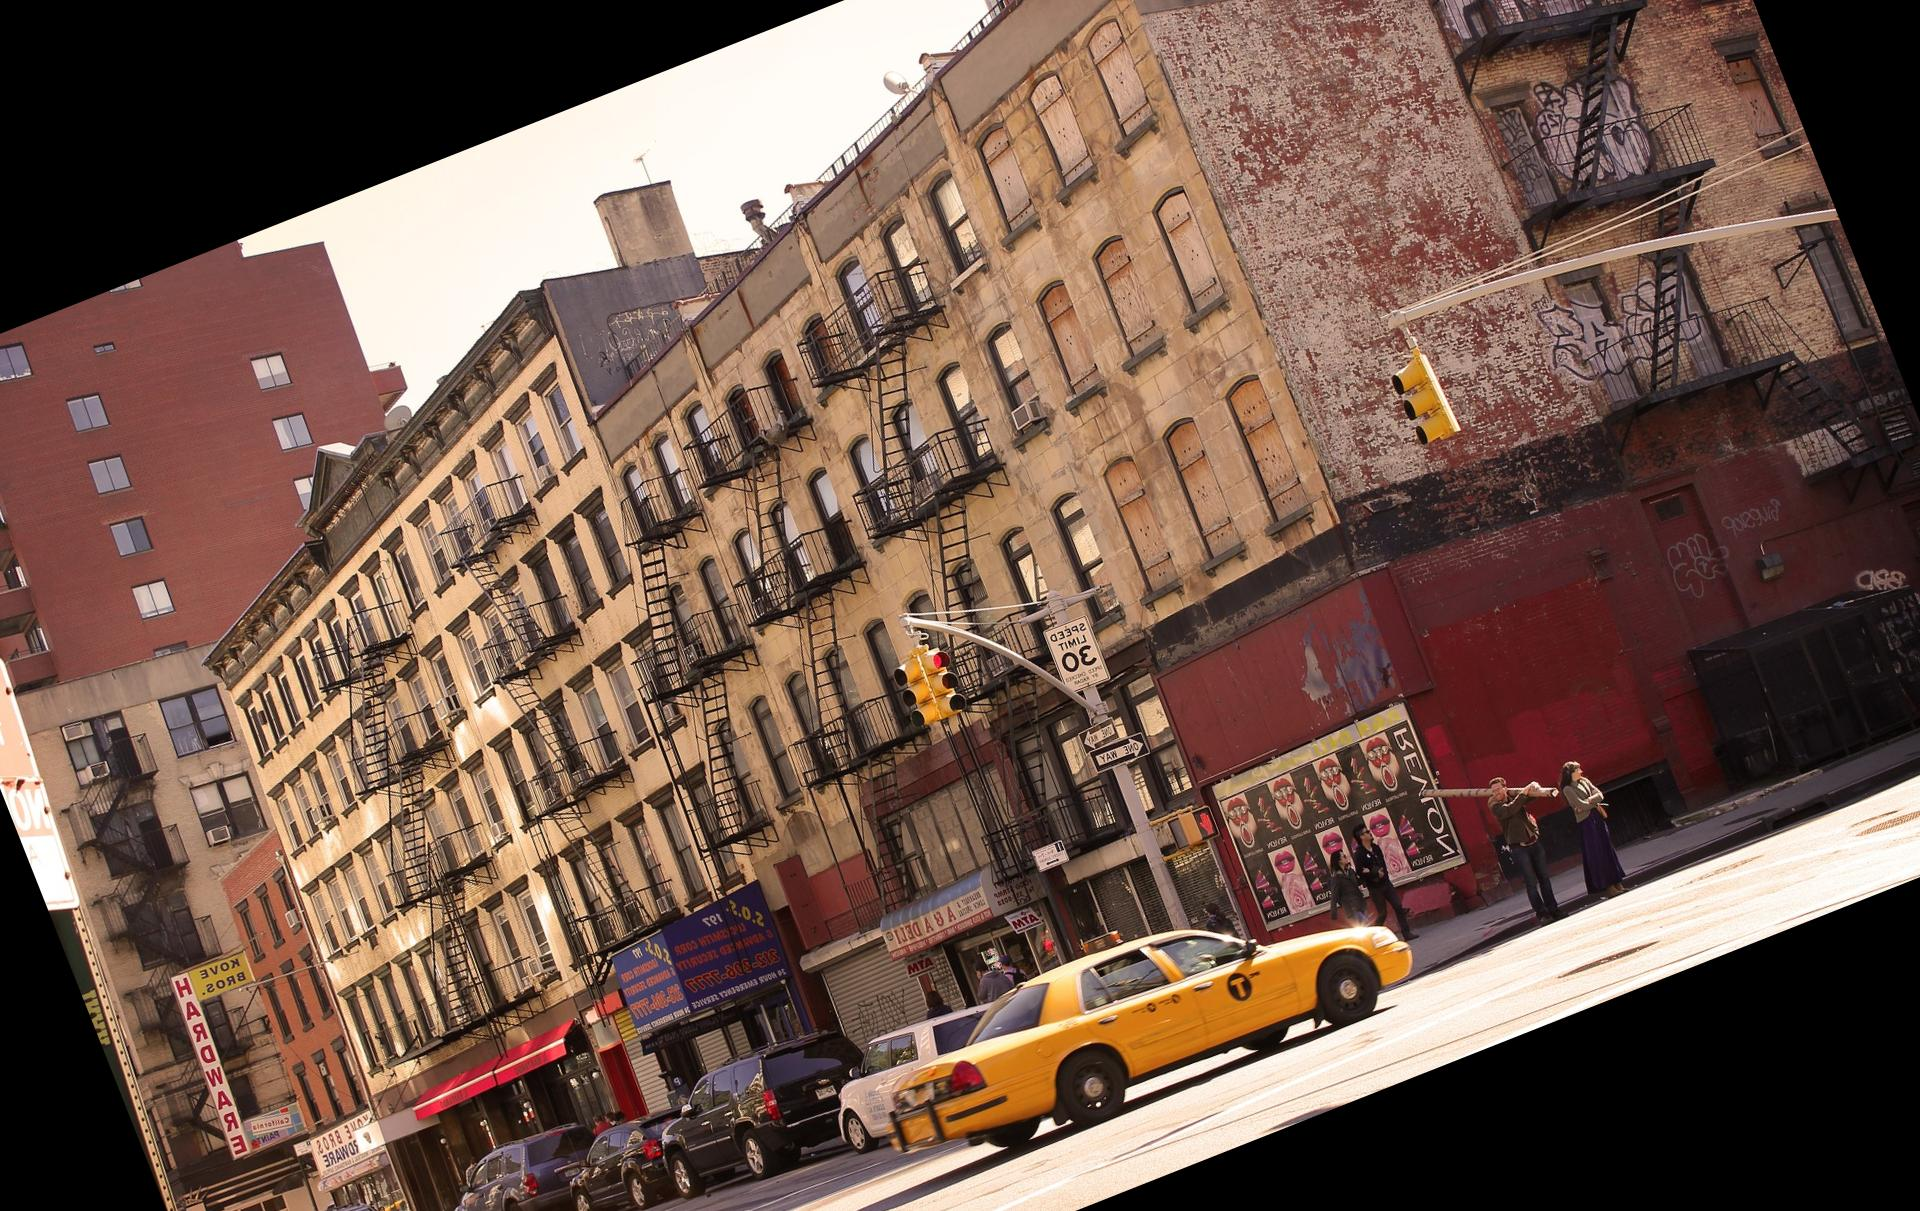taxi: (882, 954, 1482, 1133)
